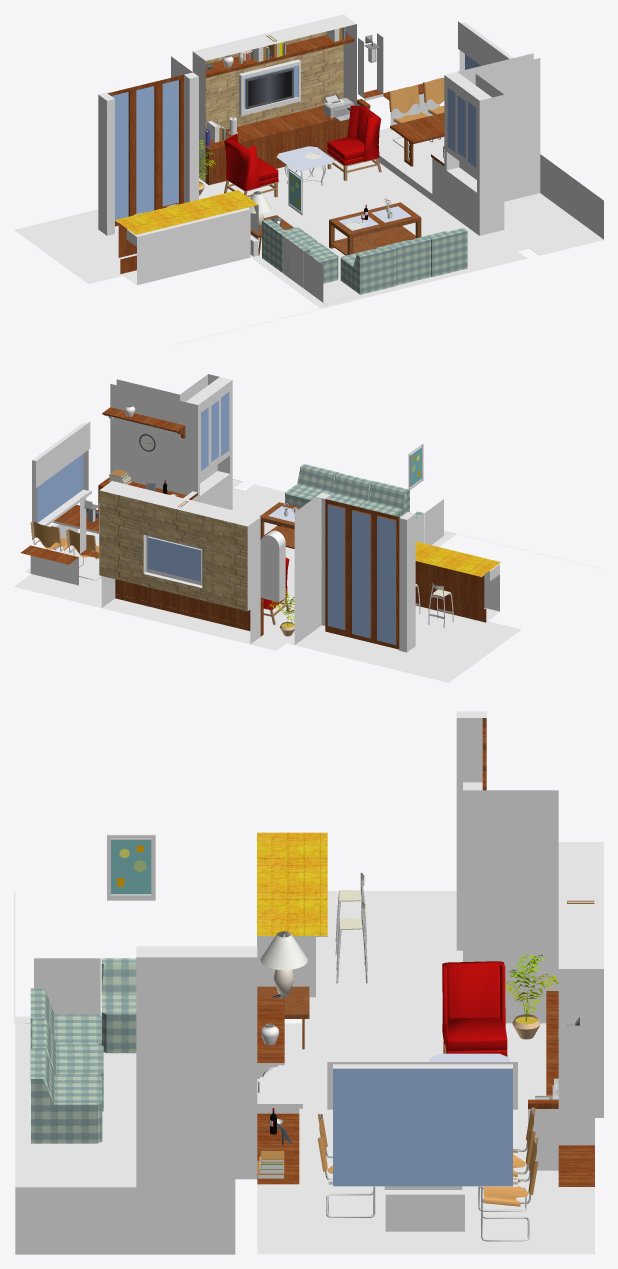
Rendered from interior.gltf.
The picture shows the model from 3 angles, top to bottom: view 1: azimuth 30°, elevation 25°; view 2: azimuth 150°, elevation 25°; view 3: azimuth 270°, elevation 25°; orthographic projection. The views are drawn at different scales.
Visible parts, largest first — view 1: interior; view 2: interior; view 3: interior.
Boxes of the visible parts, x1,y1,x2,y2 form: interior: (14,14,603,345); interior: (14,374,603,682); interior: (14,711,603,1254).
Bounding box in the file's own units: 271 × 80.31 × 184.
Materials: 65 (9 with a texture image).
